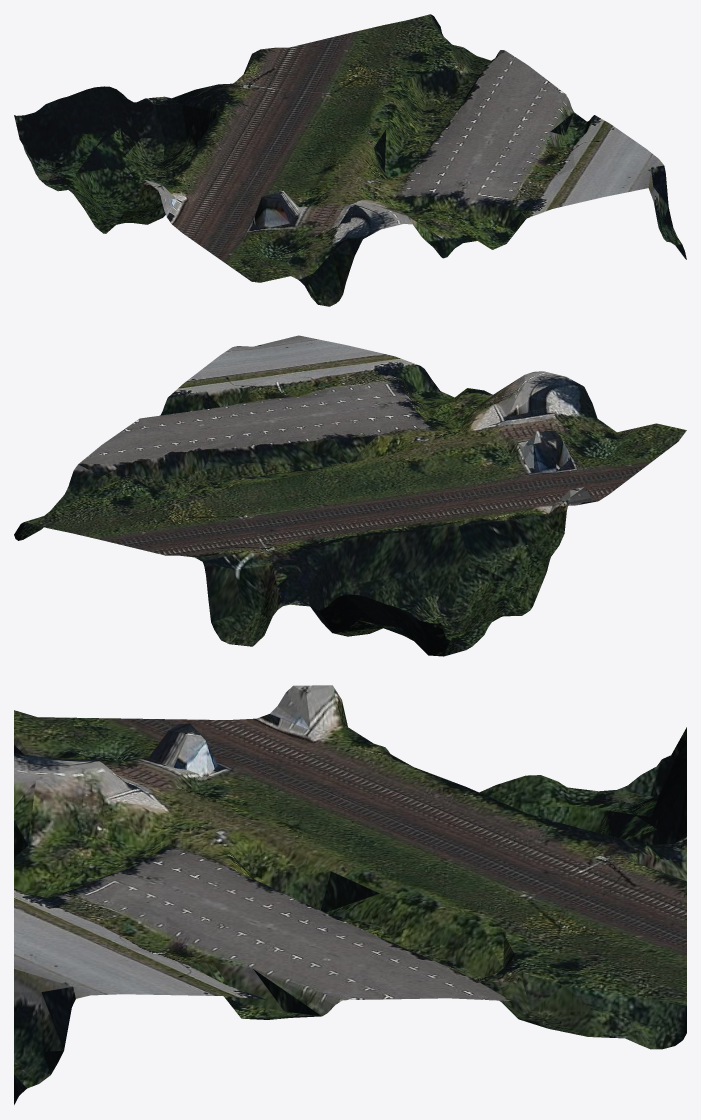
Rendered from map_15_8184_13789.dae.
3 renders of one model, top to bottom at view 1: azimuth 30°, elevation 25°; view 2: azimuth 150°, elevation 25°; view 3: azimuth 270°, elevation 25°, orthographic. The views are drawn at different scales.
Parts seen in each view (by area): view 1: Ter0; view 2: Ter0; view 3: Ter0.
Part boxes in pixels (<box>): Ter0: <box>14,14,686,306</box>; Ter0: <box>14,335,686,656</box>; Ter0: <box>14,685,686,1104</box>.
Bounding box in the file's own units: 63.88 × 63.88 × 15.76.
Materials: 2 (2 with a texture image).
